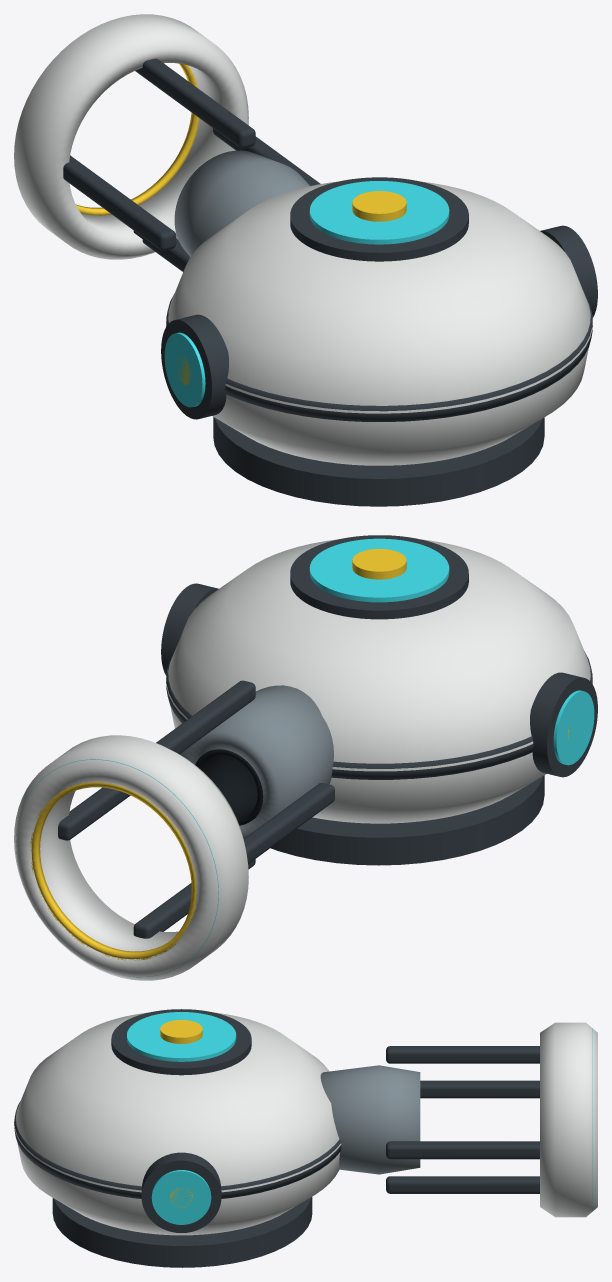
File: bubble_cannon.glb
3 renders of one model, top to bottom at view 1: azimuth 30°, elevation 25°; view 2: azimuth 150°, elevation 25°; view 3: azimuth 270°, elevation 25°, orthographic. The views are drawn at different scales.
Visible parts, largest first — view 1: Batch_109 porcelain.001, Batch_109 mechanism, Batch_109 porcelain, Batch_109 headlight, Batch_109 mechanism.001, Batch_109 steel, Batch_109 yellow, Batch_109 yellow.001; view 2: Batch_109 porcelain.001, Batch_109 porcelain, Batch_109 mechanism, Batch_109 steel, Batch_109 headlight, Batch_109 mechanism.001, Batch_109 yellow.001, Batch_109 recess, Batch_109 yellow; view 3: Batch_109 porcelain.001, Batch_109 mechanism, Batch_109 porcelain, Batch_109 mechanism.001, Batch_109 steel, Batch_109 headlight, Batch_109 yellow.
Boxes of the visible parts, x1=… form: Batch_109 porcelain.001: x1=166, y1=181, x2=592, y2=465; Batch_109 mechanism: x1=161, y1=177, x2=597, y2=506; Batch_109 porcelain: x1=14, y1=14, x2=248, y2=259; Batch_109 headlight: x1=164, y1=181, x2=449, y2=407; Batch_109 mechanism.001: x1=63, y1=58, x2=320, y2=271; Batch_109 steel: x1=174, y1=150, x2=309, y2=256; Batch_109 yellow: x1=176, y1=191, x2=406, y2=385; Batch_109 yellow.001: x1=76, y1=63, x2=199, y2=215; Batch_109 porcelain.001: x1=166, y1=539, x2=592, y2=823; Batch_109 porcelain: x1=14, y1=735, x2=248, y2=980; Batch_109 mechanism: x1=161, y1=535, x2=597, y2=865; Batch_109 steel: x1=179, y1=685, x2=333, y2=838; Batch_109 headlight: x1=309, y1=538, x2=594, y2=765; Batch_109 mechanism.001: x1=58, y1=680, x2=334, y2=938; Batch_109 yellow.001: x1=30, y1=781, x2=197, y2=960; Batch_109 recess: x1=195, y1=749, x2=263, y2=825; Batch_109 yellow: x1=352, y1=549, x2=581, y2=742; Batch_109 porcelain.001: x1=14, y1=1012, x2=341, y2=1235; Batch_109 mechanism: x1=14, y1=1009, x2=341, y2=1267; Batch_109 porcelain: x1=540, y1=1022, x2=597, y2=1217; Batch_109 mechanism.001: x1=386, y1=1046, x2=539, y2=1193; Batch_109 steel: x1=320, y1=1065, x2=420, y2=1174; Batch_109 headlight: x1=127, y1=1012, x2=236, y2=1224; Batch_109 yellow: x1=160, y1=1020, x2=202, y2=1208.
Bounding box in the file's own units: 1.04 × 0.594 × 1.71.
